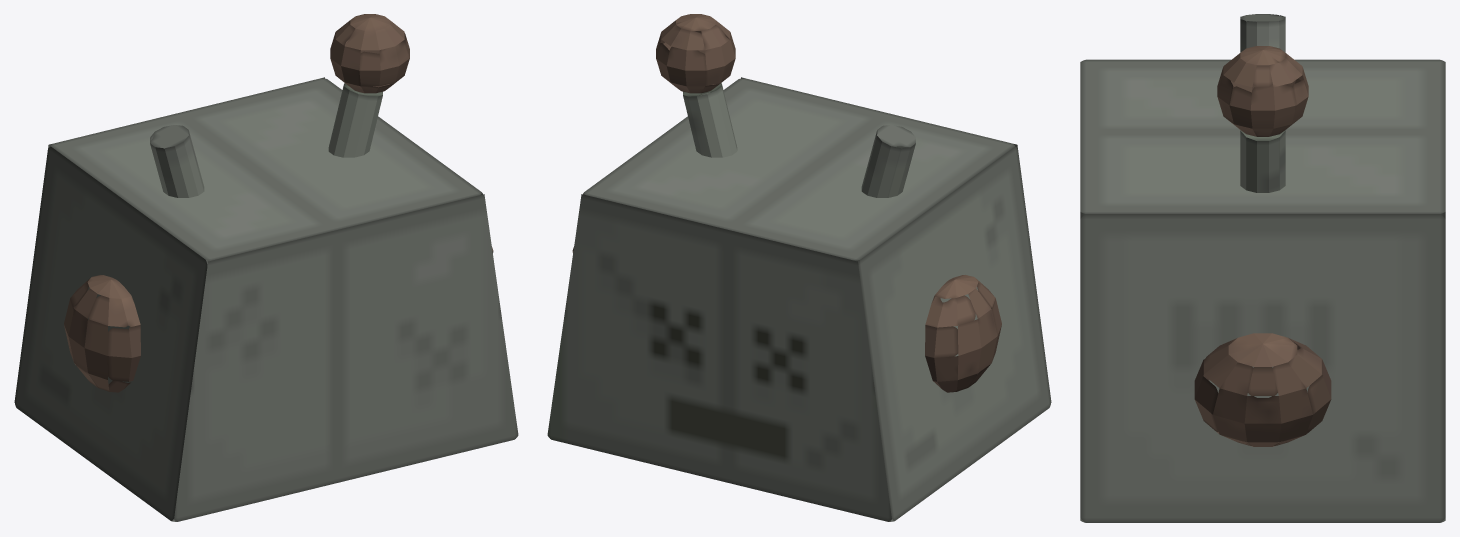
The model's file is robohead.dae.
3 views of the same model, side by side, from view 1: azimuth 30°, elevation 25°; view 2: azimuth 150°, elevation 25°; view 3: azimuth 270°, elevation 25° (orthographic). The views are drawn at different scales.
Visible parts, largest first — view 1: cuboid; view 2: cuboid; view 3: cuboid.
Boxes of the visible parts, left/top/right/bottom form: cuboid: left=14, top=14, right=518, bottom=521; cuboid: left=547, top=14, right=1051, bottom=521; cuboid: left=1080, top=14, right=1445, bottom=522.
Size of the model in its own units: 1.47 by 1.31 by 1.
Materials: 1 (1 with a texture image).
